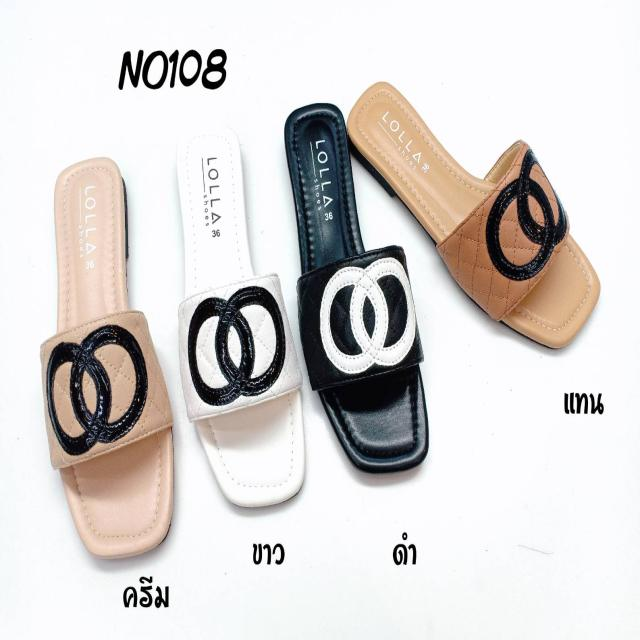black: (285, 107, 439, 504)
cream: (48, 153, 171, 549)
tan: (348, 31, 597, 346)
white: (177, 133, 300, 519)
